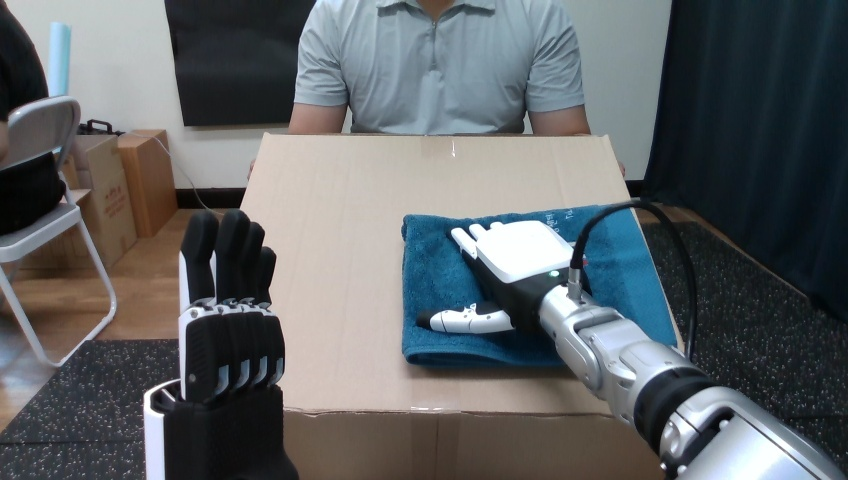left robot hand: (665, 207, 847, 476), (144, 210, 297, 478)
